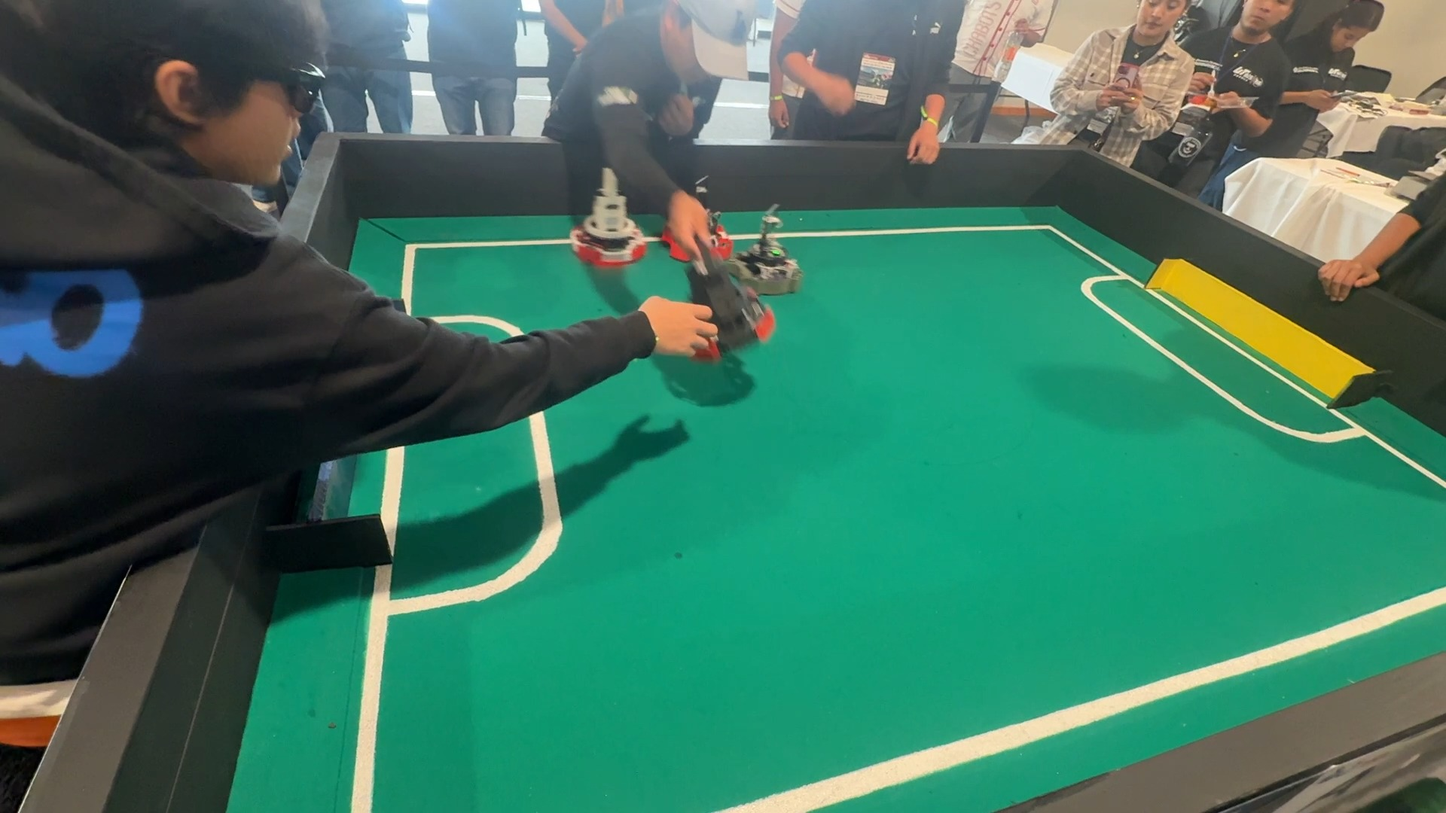Robot: (573, 162, 654, 273), (694, 244, 772, 353), (744, 207, 803, 296)
